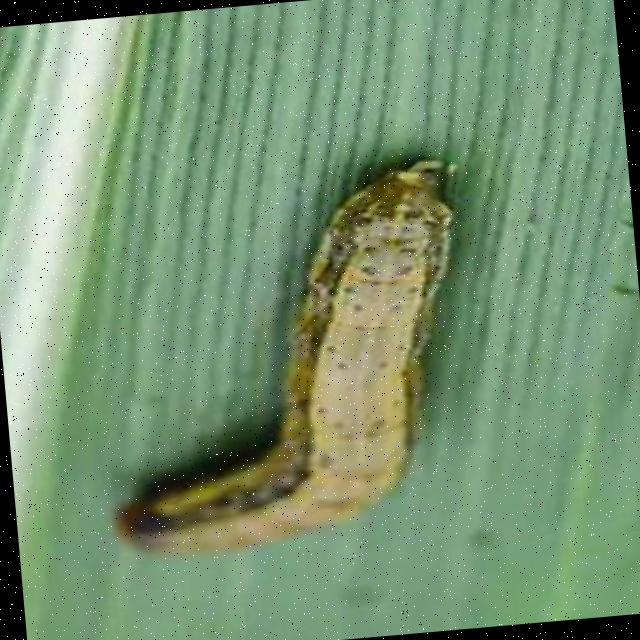worm: (85, 155, 491, 565)
